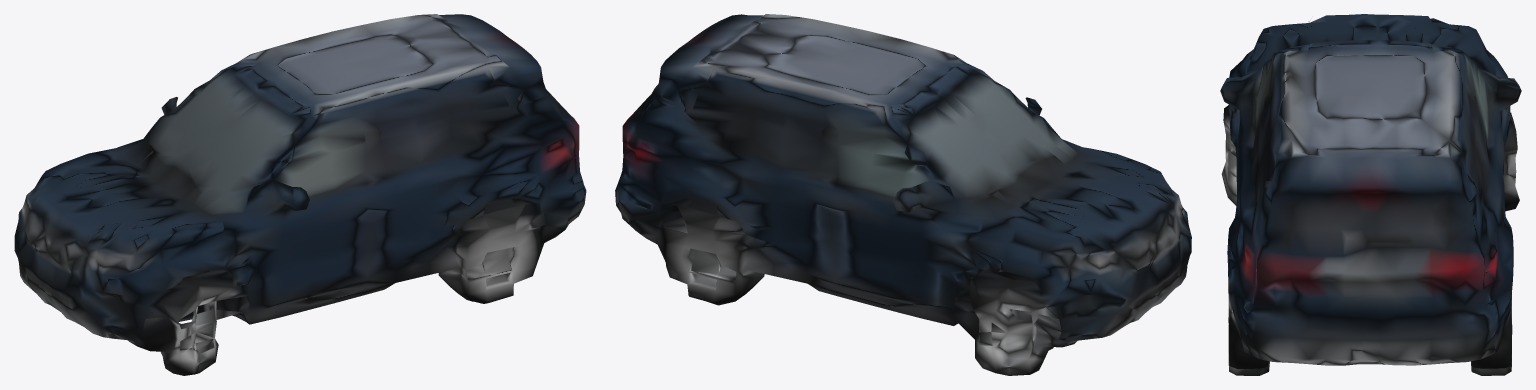
The model's file is suv.glb.
3 renders of one model, left to right at view 1: azimuth 30°, elevation 25°; view 2: azimuth 150°, elevation 25°; view 3: azimuth 270°, elevation 25°, orthographic. The views are drawn at different scales.
Parts seen in each view (by area): view 1: models-source/_out/../../public/models/suv.glb; view 2: models-source/_out/../../public/models/suv.glb; view 3: models-source/_out/../../public/models/suv.glb.
Part boxes in pixels (x1,y1,x2,y2): models-source/_out/../../public/models/suv.glb: [14, 14, 586, 375]; models-source/_out/../../public/models/suv.glb: [615, 14, 1191, 375]; models-source/_out/../../public/models/suv.glb: [1220, 14, 1521, 375].
Size of the model in its own units: 1.87 by 0.7681 by 0.8589.
